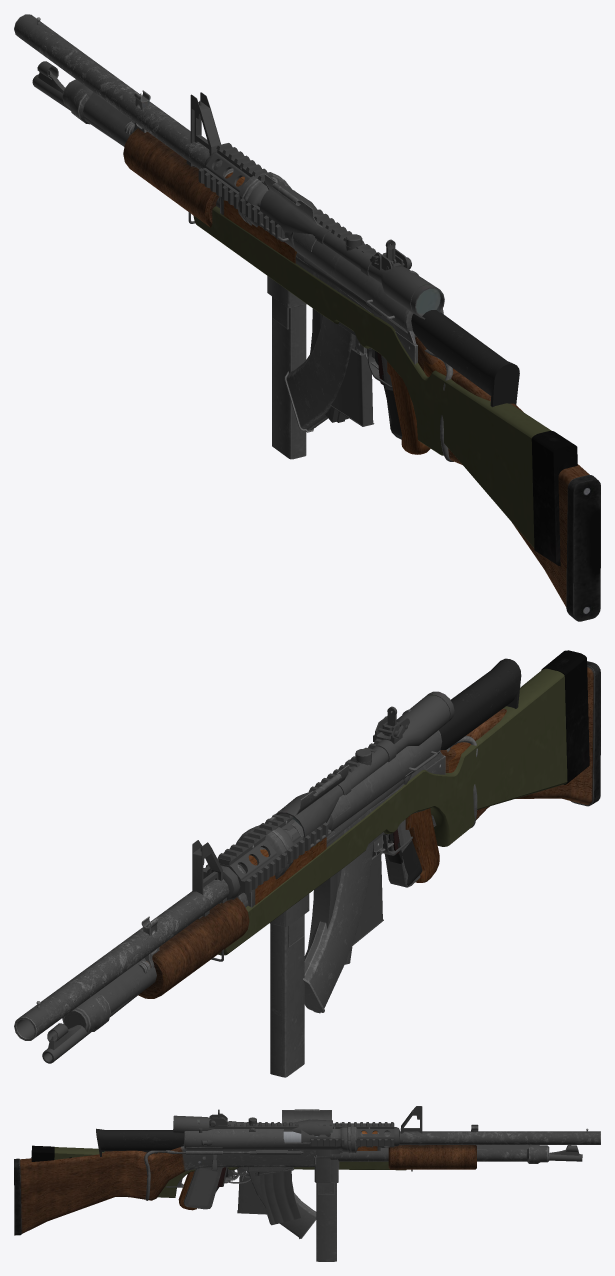
The model's file is weapons.glb.
3 views of the same model, one above another, from view 1: azimuth 30°, elevation 25°; view 2: azimuth 150°, elevation 25°; view 3: azimuth 270°, elevation 25° (orthographic). The views are drawn at different scales.
Parts seen in each view (by area): view 1: Sniper, Shotgun, AR15, SMG, Rifle; view 2: Sniper, Shotgun, AR15, SMG, Rifle; view 3: Shotgun, SMG, AR15, Sniper, Rifle.
Part boxes in pixels (left/top/right/bottom): Sniper: left=32, top=61, right=577, bottom=566; Shotgun: left=14, top=14, right=600, bottom=621; AR15: left=186, top=92, right=519, bottom=436; SMG: left=238, top=172, right=453, bottom=461; Rifle: left=124, top=90, right=458, bottom=454; Sniper: left=42, top=650, right=589, bottom=1063; Shotgun: left=14, top=661, right=600, bottom=1040; AR15: left=192, top=658, right=521, bottom=964; SMG: left=237, top=709, right=477, bottom=1077; Rifle: left=138, top=742, right=470, bottom=1013; Shotgun: left=14, top=1128, right=600, bottom=1235; SMG: left=144, top=1109, right=363, bottom=1261; AR15: left=96, top=1106, right=425, bottom=1225; Sniper: left=31, top=1115, right=582, bottom=1214; Rifle: left=69, top=1124, right=478, bottom=1238.
Bounding box in the file's own units: 0.0636 × 0.3498 × 1.22.
6 materials, 6 textured.
